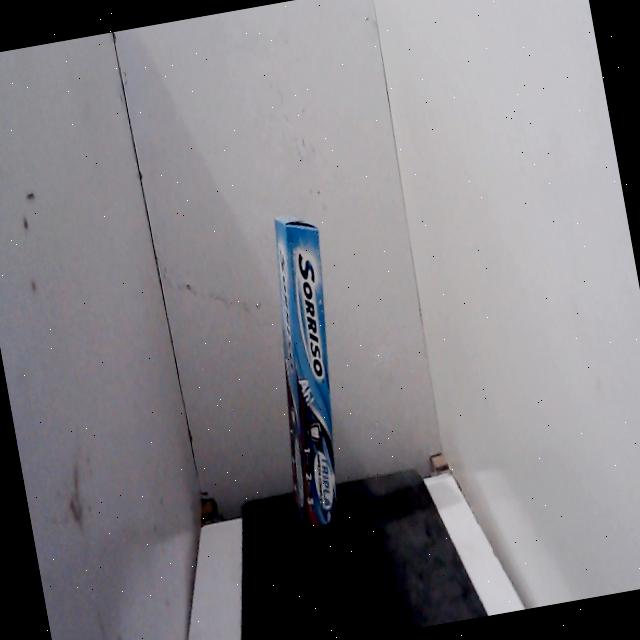papel: (237, 200, 376, 546)
